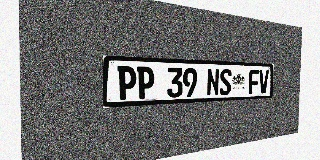3: (167, 67, 183, 98)
9: (183, 68, 197, 97)
F: (249, 70, 259, 94)
N: (206, 68, 219, 96)
P: (117, 66, 136, 100), (137, 66, 154, 99)
S: (219, 69, 231, 95)
V: (259, 70, 269, 94)
